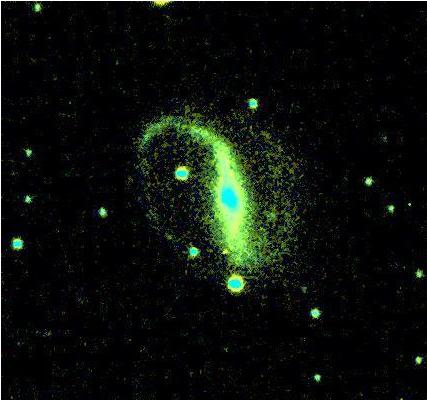star: (210, 238, 240, 268)
